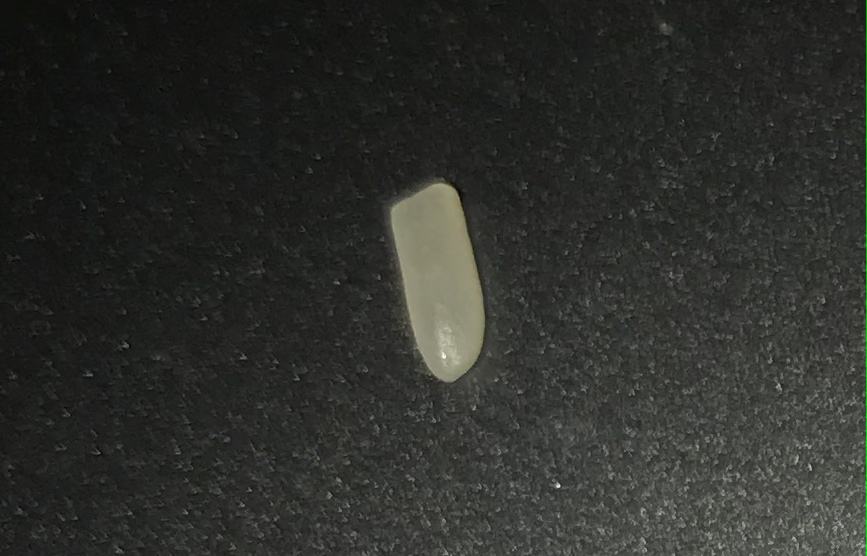Gao Thom My: (378, 171, 501, 387)
